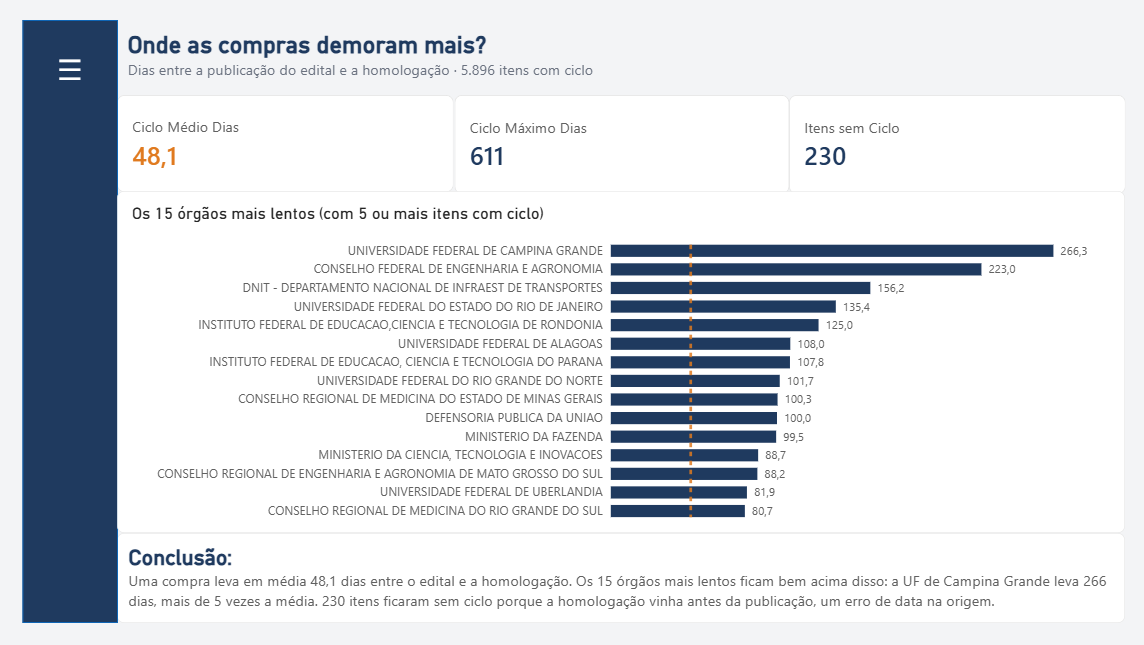

Layout of this report page (visuals, bound fields, positions):
{"tool":"powerbi","page":{"name":"4 Ciclo","canvas":[1280,720],"ordinal":4},"visuals":[{"type":"textbox","title":"Onde as compras demoram mais? ","box":[134,24,1120,80],"z":0},{"type":"cardVisual","fields":{"Data":["_Medidas.Ciclo Medio Dias"]},"box":[134,106,374,108],"z":1000},{"type":"cardVisual","fields":{"Data":["_Medidas.Ciclo Maximo Dias"]},"box":[508,106,372,110],"z":2000},{"type":"textbox","title":"  Conclusão:","box":[134,594,1120,100],"z":3000},{"type":"shape","box":[28,24,106,670],"z":4000},{"type":"cardVisual","fields":{"Data":["_Medidas.Itens sem Ciclo"]},"box":[880,106,374,110],"z":5000},{"type":"barChart","title":"Os 15 órgãos mais lentos (com 5 ou mais itens com ciclo)","fields":{"Category":["dim_orgao.nome_orgao"],"Y":["_Medidas.Ciclo Medio Orgaos 5+"]},"box":[134,214,1120,380],"z":6000},{"type":"actionButton","title":"Botão menu","box":[27.7,24.6,104.6,104.6],"z":7000}]}

Visuals, with their boxes in screenshot pixels (x1, y1, x2, y2), scaled from the page's 1280x720 canvas onto the 1144x645 screenshot:
"Onde as compras demoram mais? " textbox: select_region(120, 22, 1121, 93)
cardVisual - _Medidas.Ciclo Medio Dias: select_region(120, 95, 454, 192)
cardVisual - _Medidas.Ciclo Maximo Dias: select_region(454, 95, 786, 194)
"  Conclusão:" textbox: select_region(120, 532, 1121, 622)
shape: select_region(25, 22, 120, 622)
cardVisual - _Medidas.Itens sem Ciclo: select_region(786, 95, 1121, 194)
"Os 15 órgãos mais lentos (com 5 ou mais itens com ciclo)" barChart: select_region(120, 192, 1121, 532)
"Botão menu" actionButton: select_region(25, 22, 118, 116)
